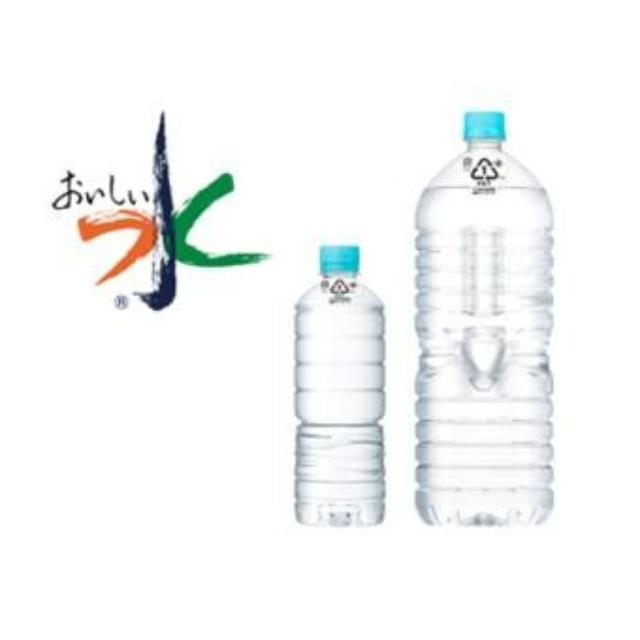Botella de plastico: (416, 112, 554, 525), (295, 246, 385, 526)
